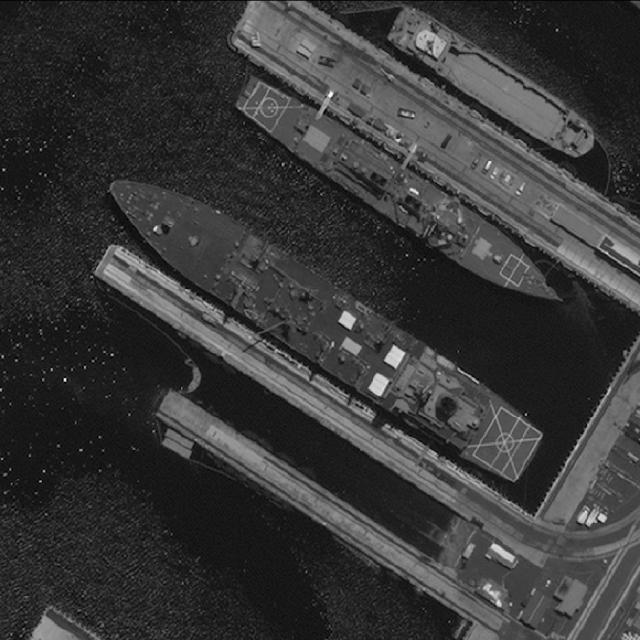Commander: (86, 143, 557, 493)
Destroyer: (226, 71, 578, 321)
Dock: (88, 242, 479, 514), (154, 385, 457, 601)
Other Warship: (385, 2, 601, 167)
